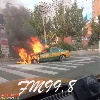fire: (14, 36, 49, 65)
